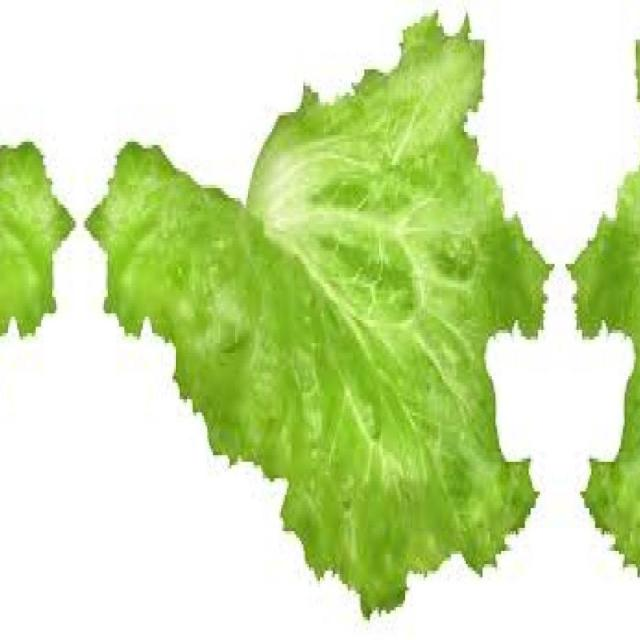healthy: (91, 11, 559, 620), (561, 10, 640, 619), (0, 10, 69, 619)
